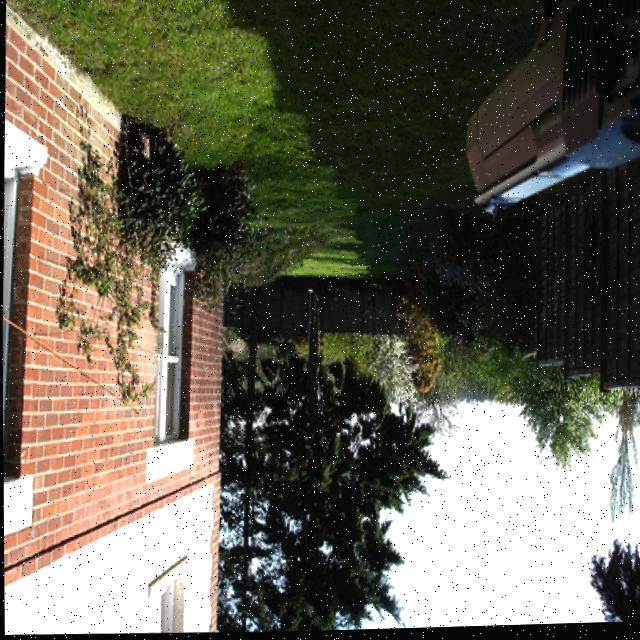pistol: (459, 0, 640, 232)
